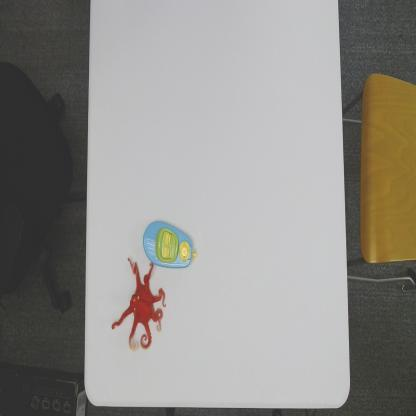Boat: (142, 218, 198, 270)
Octopus: (110, 255, 166, 353)
